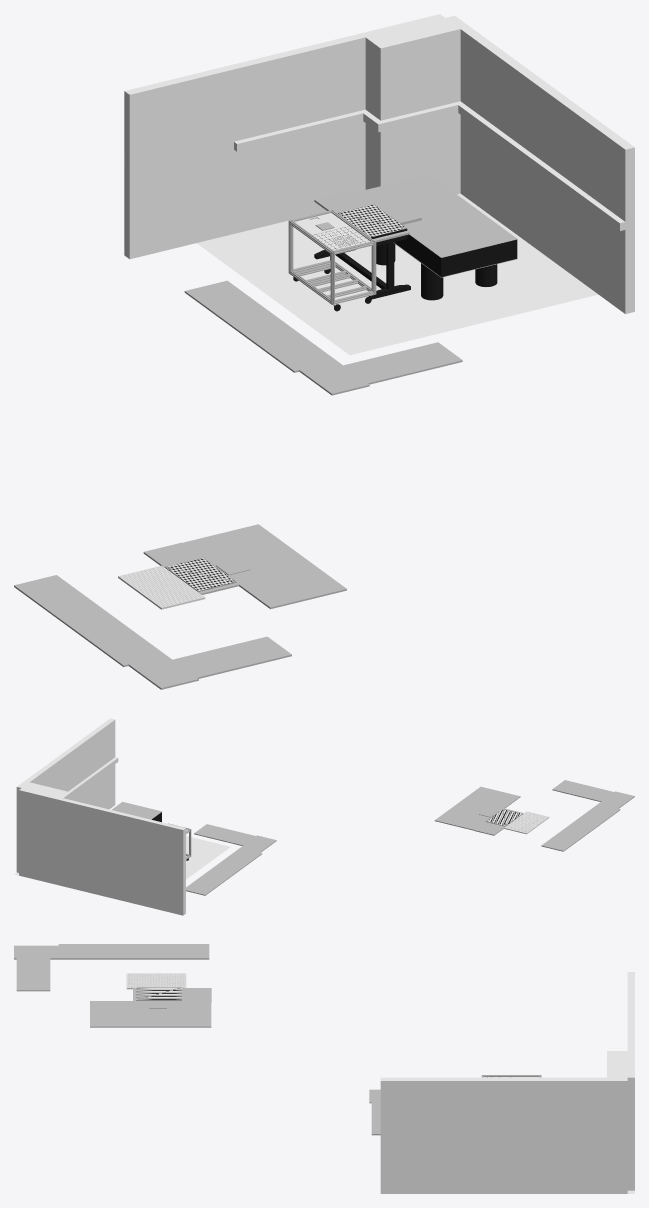
Rendered from Agility_Lab_Robot_Area.dae.
The picture shows the model from 3 angles, top to bottom: view 1: azimuth 30°, elevation 25°; view 2: azimuth 150°, elevation 25°; view 3: azimuth 270°, elevation 25°; orthographic projection. The views are drawn at different scales.
Parts seen in each view (by area): view 1: SketchUp, group_8, group_19, group_3, group_6, group_2, group_7, group_1, group_9, group_21, group_13, group_10 (+5 smaller); view 2: SketchUp, group_8, group_3, group_6, group_9, group_1, group_7, group_2, group_13, group_19, group_12, group_10 (+2 smaller); view 3: SketchUp, group_8, group_7, group_9, group_6, group_13, group_12, group_10, group_5.
Boxes of the visible parts, x1,y1,x2,y2 form: SketchUp: (124,14,634,355); group_8: (182,524,346,609); group_19: (355,174,517,257); group_3: (343,342,462,384); group_6: (173,636,291,678); group_2: (239,321,336,372); group_7: (68,615,165,667); group_1: (184,280,281,332); group_9: (14,575,110,626); group_21: (394,234,517,277); group_13: (118,565,205,609); group_10: (128,655,198,689); SketchUp: (14,718,230,915); group_8: (434,786,520,830); group_3: (194,824,255,845); group_6: (552,780,613,801); group_9: (541,824,591,851); group_1: (186,869,233,895); group_7: (570,804,620,830); group_2: (212,848,262,874); group_13: (504,811,549,834); group_19: (112,802,161,819); group_12: (485,809,522,826); group_10: (598,791,634,808); SketchUp: (380,972,634,1193); group_8: (90,1001,211,1027); group_7: (58,944,133,959); group_9: (134,944,209,959); group_6: (16,958,50,991); group_13: (126,973,186,989); group_12: (136,987,181,1000); group_10: (14,945,58,959); group_5: (133,988,211,1001).
Size of the model in its own units: 468 by 491 by 99.5.
